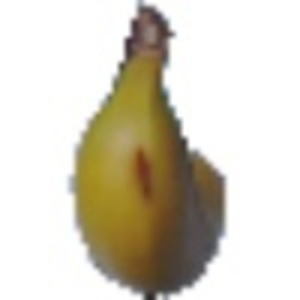banana: (67, 3, 234, 295)
